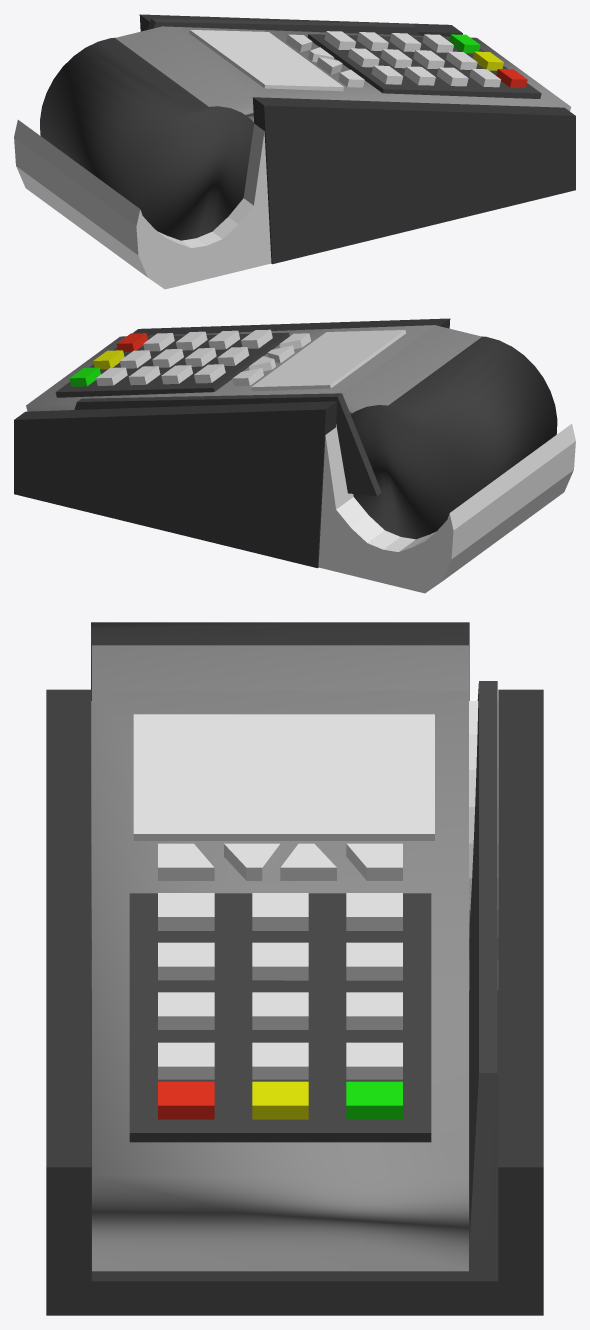
The model's file is eftpos machine.fbx.
3 renders of one model, top to bottom at view 1: azimuth 30°, elevation 25°; view 2: azimuth 150°, elevation 25°; view 3: azimuth 270°, elevation 25°, orthographic. The views are drawn at different scales.
Parts seen in each view (by area): view 1: Cube.001; view 2: Cube.001; view 3: Cube.001.
Boxes of the visible parts, box(x1,y1,x2,y2) form: Cube.001: box(14, 14, 575, 289); Cube.001: box(14, 318, 575, 593); Cube.001: box(46, 622, 543, 1315).
Bounding box in the file's own units: 546 × 193 × 264.
